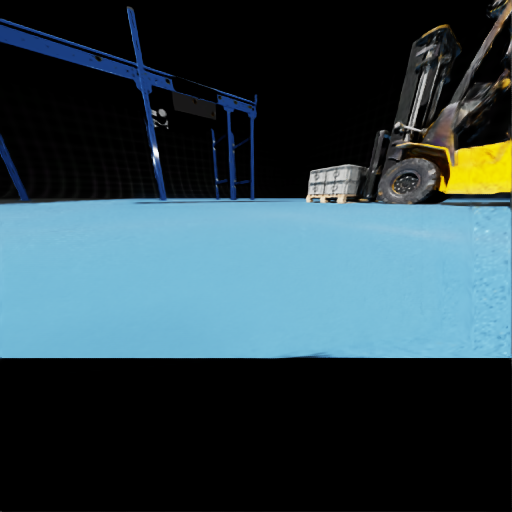transportation_area: (325, 180, 364, 194), (155, 79, 156, 80), (137, 73, 138, 74), (47, 46, 48, 47)
